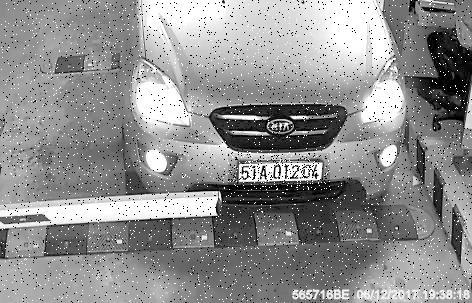License-plate: (229, 154, 331, 191)
